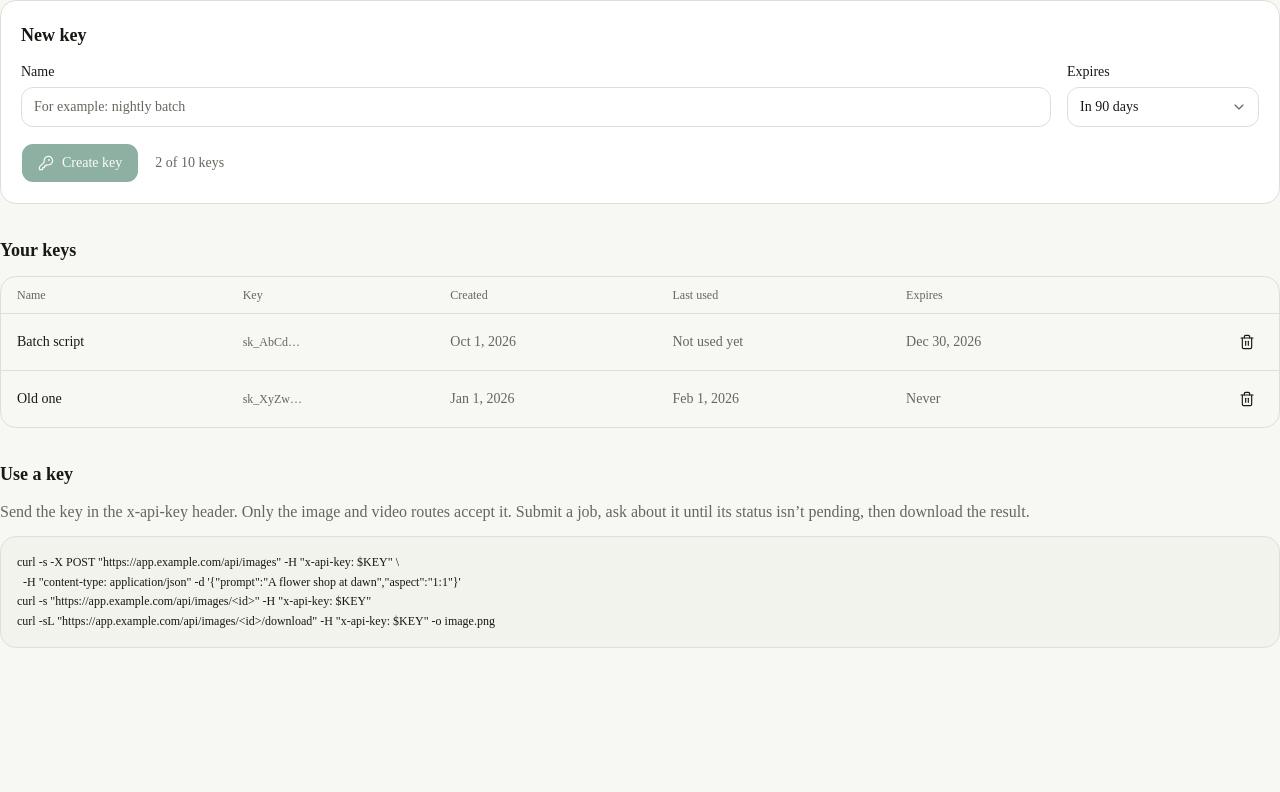
creates a key that expires in 90 days by default, and shows it once with a copy button
Type "Nightly" into the field labelled "Name" at (536, 107), box [21,87,1051,127]
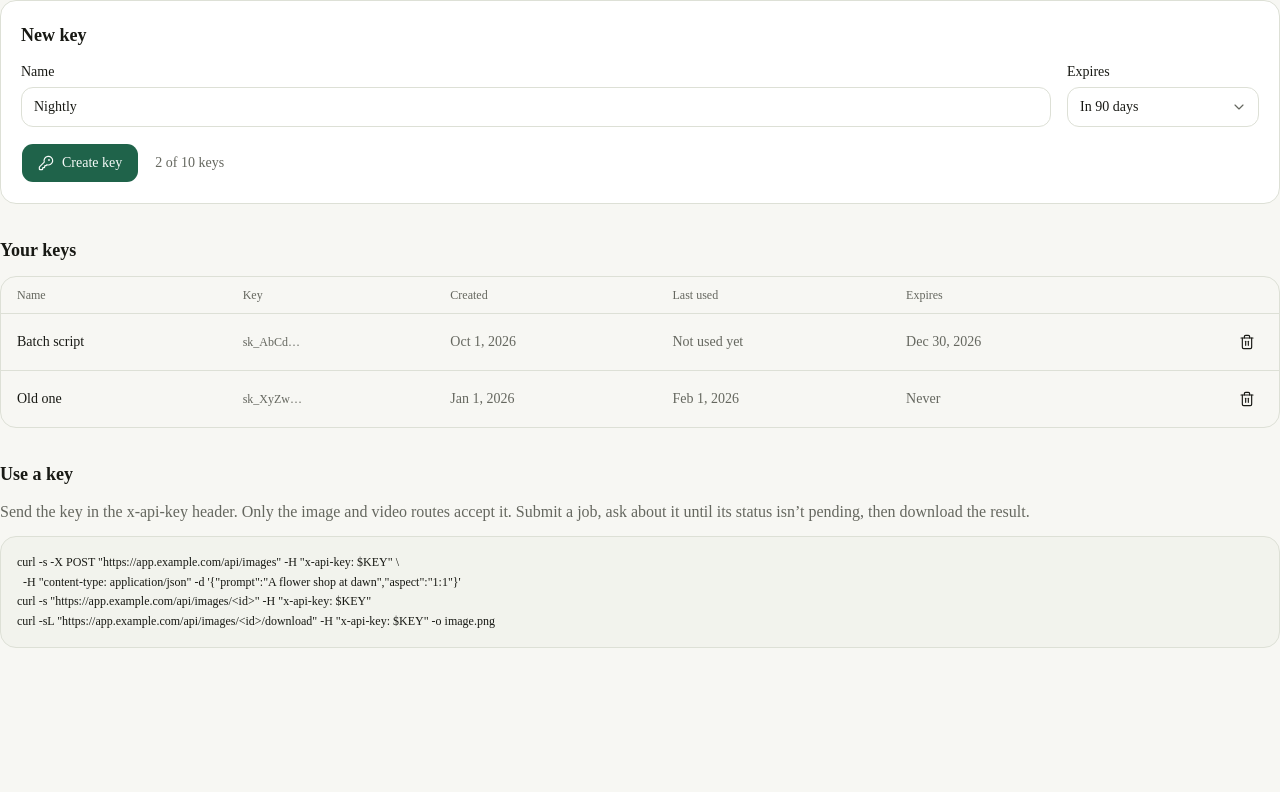
Click the button "Create key" at (80, 163), box [21,143,139,183]
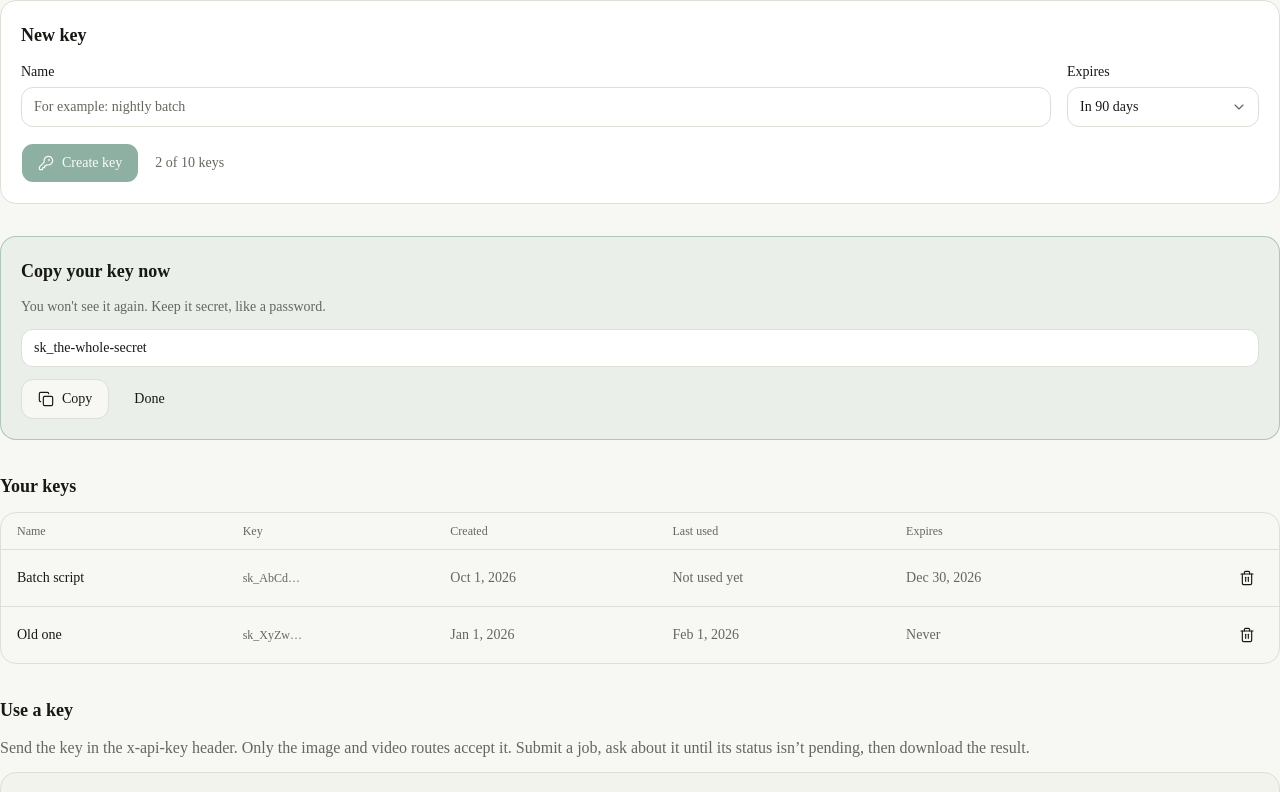
Now the text "sk_the-whole-secret" is shown, box [21,329,1259,367]
Click the button "Copy" at (65, 399), box [21,379,109,419]
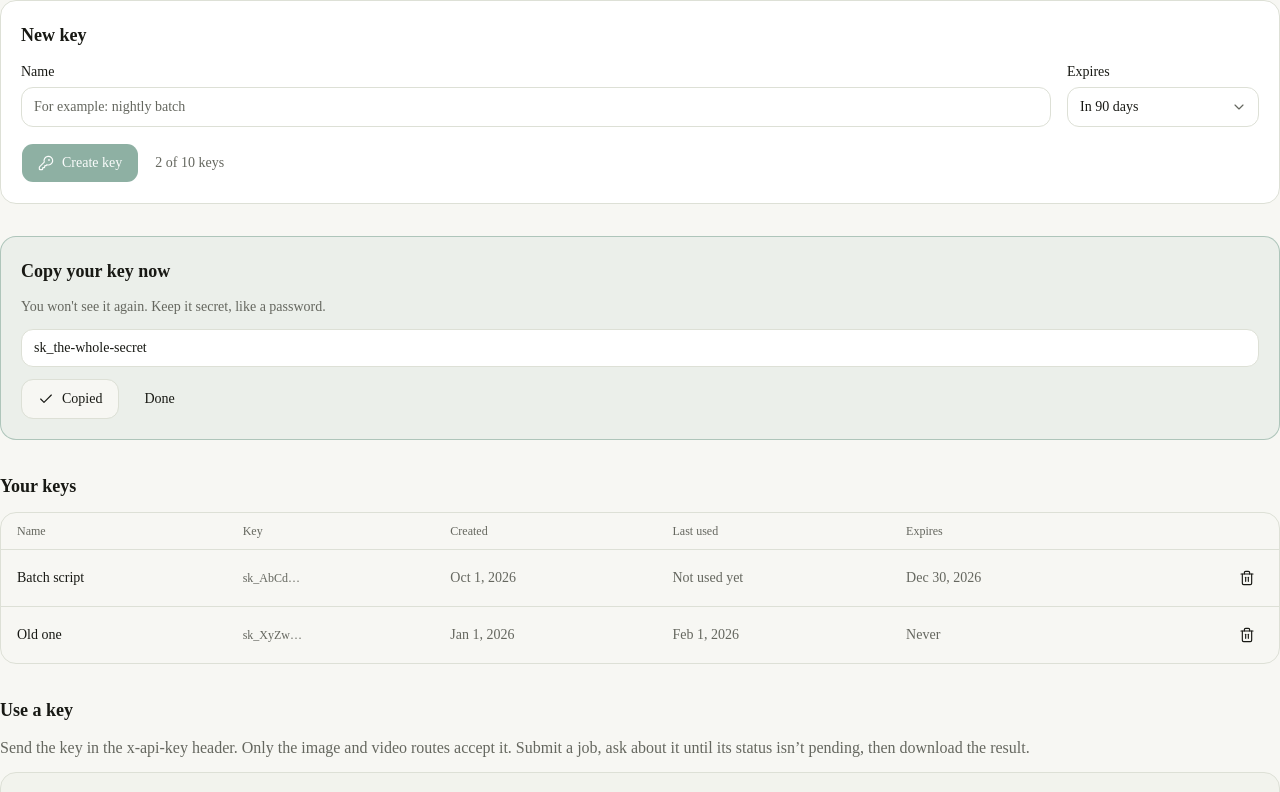
Now the button "Copied" is shown, box [21,379,120,419]
Click the button "Done" at (160, 399), box [128,379,192,419]
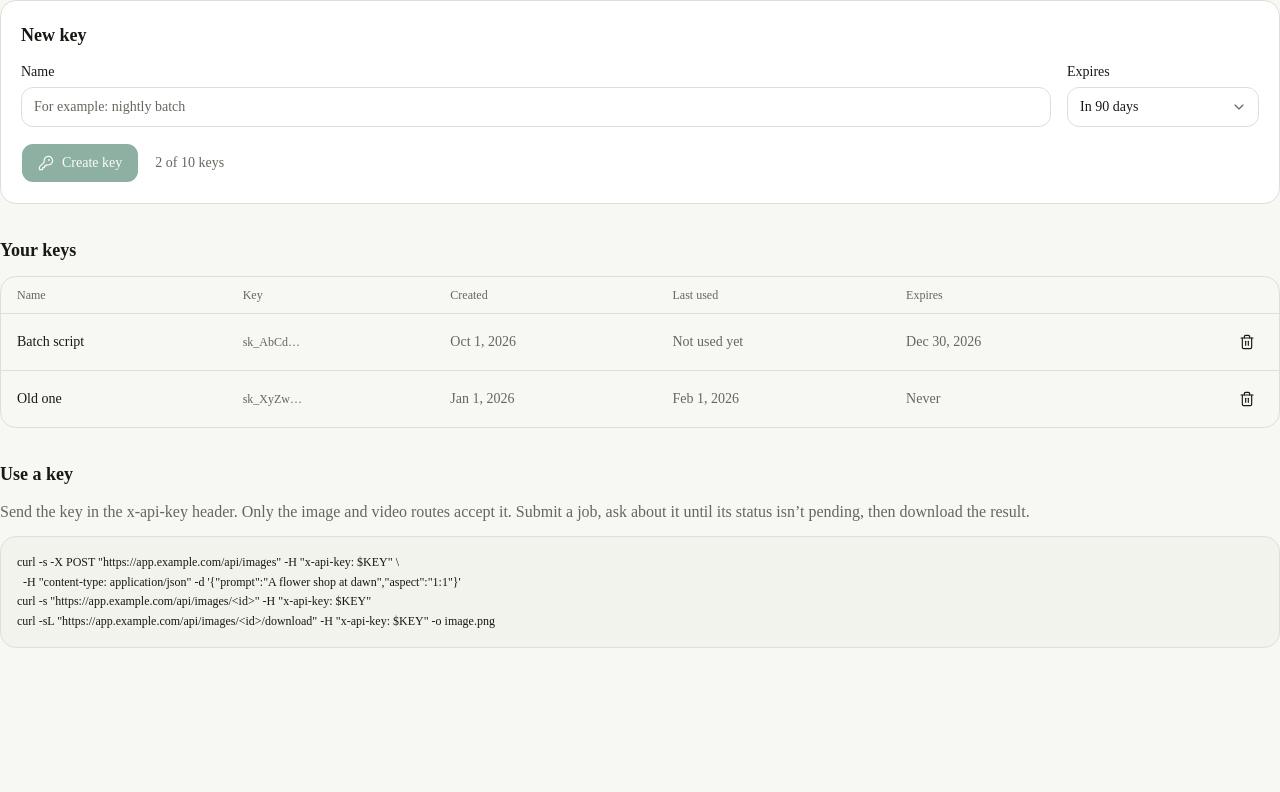
Now the text "sk_the-whole-secret" is gone
